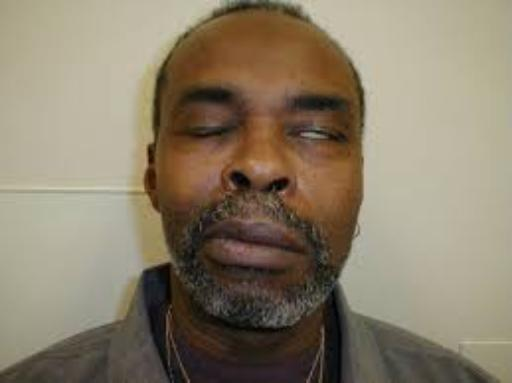left_eye: (290, 127, 348, 145)
left_lip_corner: (289, 236, 310, 261)
right_eye: (183, 123, 231, 140)
right_lip_corner: (199, 229, 216, 249)
